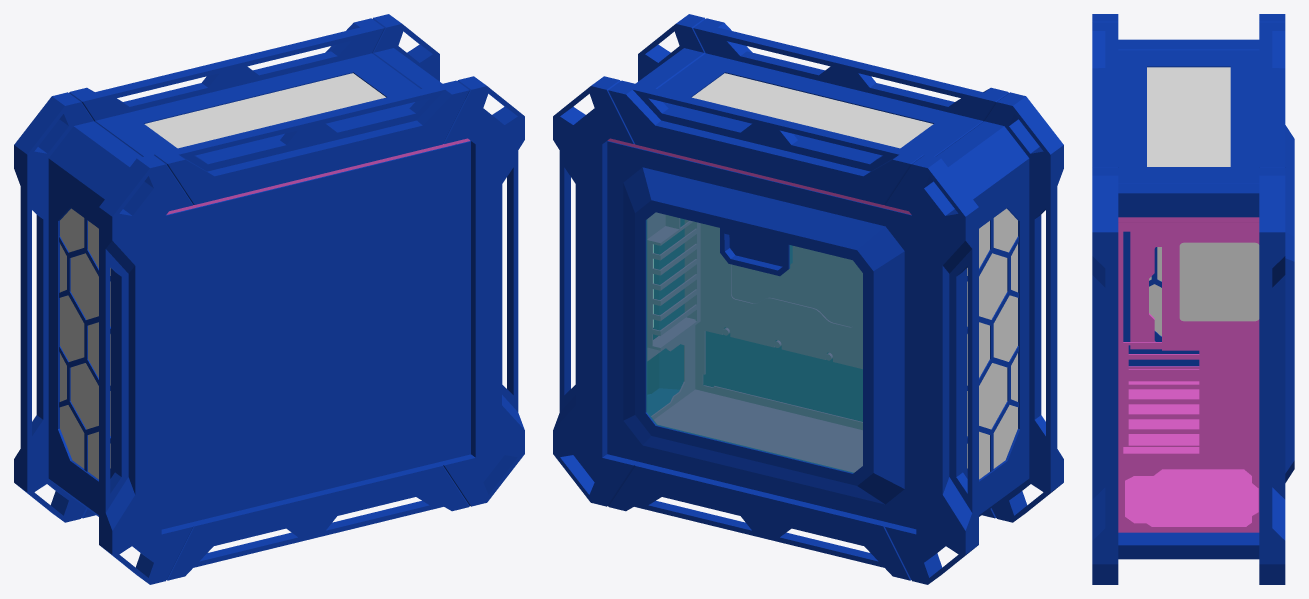
Rendered from pc_case_h_cover.fbx.
3 views of the same model, side by side, from view 1: azimuth 30°, elevation 25°; view 2: azimuth 150°, elevation 25°; view 3: azimuth 270°, elevation 25° (orthographic).
Parts seen in each view (by area): view 1: pc_case_h_cover, pc_case_h_body; view 2: pc_case_h_cover, pc_case_h_door, pc_case_h_body; view 3: pc_case_h_cover, pc_case_h_body, pc_case_h_wire, pc_case_h_door.
Boxes of the visible parts, x1=… form: pc_case_h_cover: x1=14, y1=14, x2=524, y2=584; pc_case_h_body: x1=166, y1=138, x2=470, y2=214; pc_case_h_cover: x1=553, y1=14, x2=1063, y2=584; pc_case_h_door: x1=607, y1=141, x2=916, y2=529; pc_case_h_body: x1=607, y1=138, x2=911, y2=472; pc_case_h_cover: x1=1092, y1=14, x2=1285, y2=584; pc_case_h_body: x1=1118, y1=217, x2=1259, y2=532; pc_case_h_wire: x1=1179, y1=242, x2=1259, y2=321; pc_case_h_door: x1=1285, y1=125, x2=1294, y2=482.
Size of the model in its own units: 59.12 by 57.08 by 25.6.
